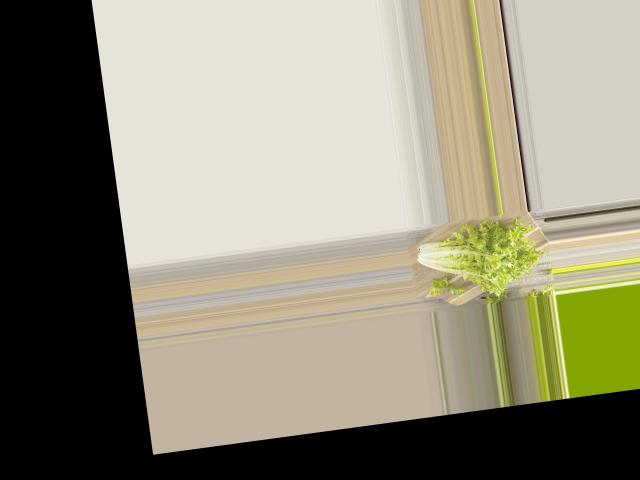lettuce: (406, 214, 543, 304)
